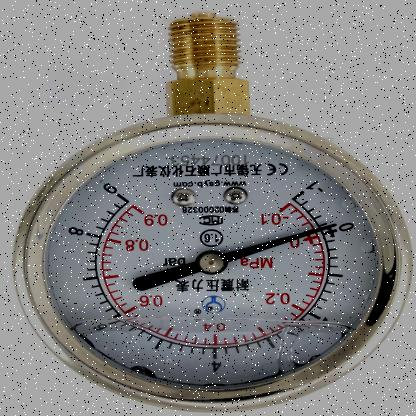needle: (223, 222, 339, 262)
